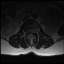CCS_normal: (30, 30, 32, 37)
LFS_stenosis: (33, 30, 35, 34)
LLS_stenosis: (32, 30, 33, 36)
RFS_severe_stenosis: (26, 30, 28, 35)
RLS_stenosis: (28, 31, 30, 36)
